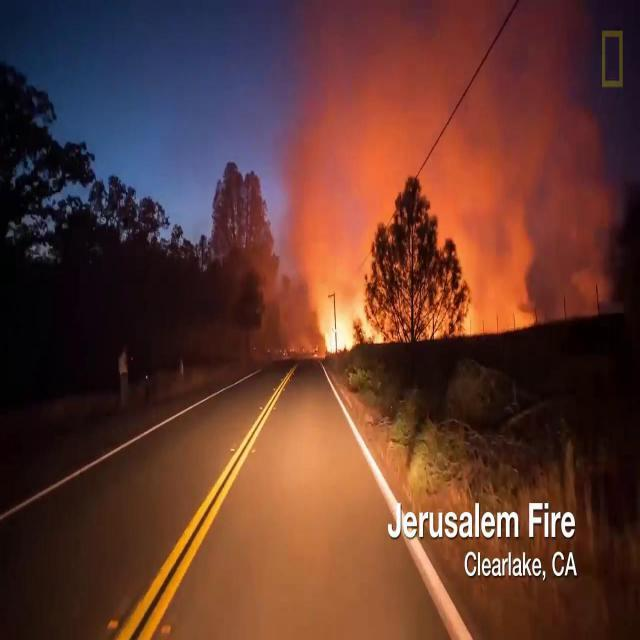Fire: (316, 306, 350, 356), (358, 309, 384, 343)
